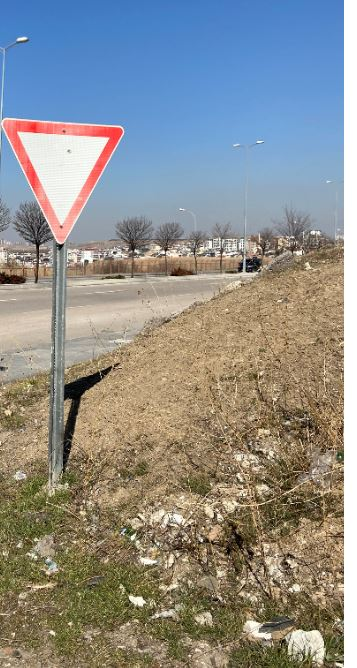Yol Ver: (5, 110, 130, 246)
